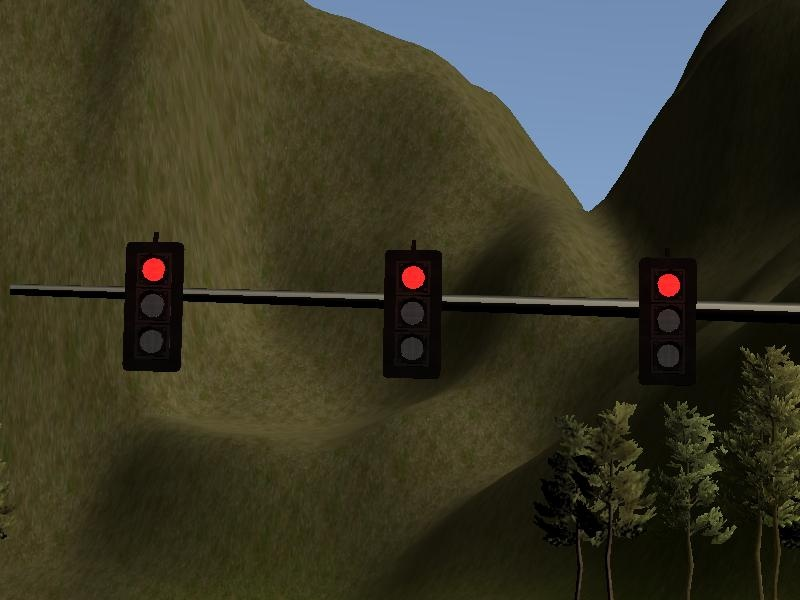red: (121, 235, 190, 379), (633, 250, 703, 390), (380, 244, 446, 381)
